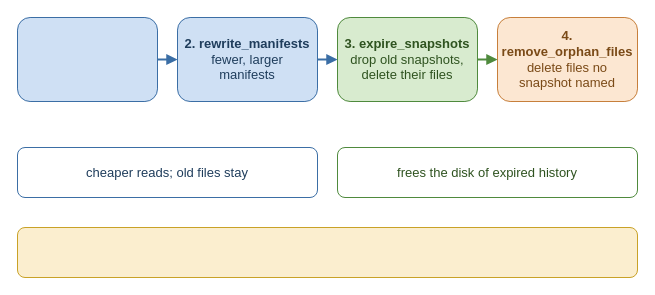
Image size: 655x295. Some labels were removed from this diagram. Here are the shapes that lost their labels. From the top down, the centre of each, then its label:
point (87, 59): 1. rewrite_data_files merge small files, apply deletes
point (327, 252): steps 3 and 4 touch disjoint sets of files
